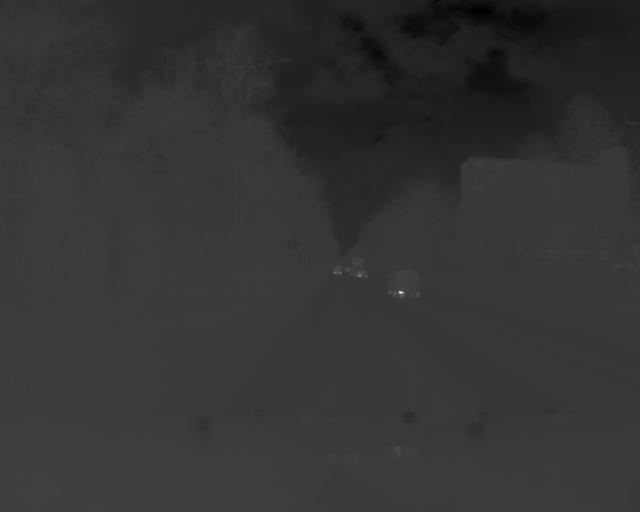car: (385, 267, 421, 300)
